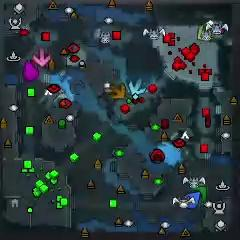p1: (184, 191, 201, 209)
p3: (22, 60, 39, 80)
x1: (33, 48, 51, 66)
x2: (197, 25, 213, 41)
x3: (129, 78, 146, 96)
x4: (190, 186, 207, 206)
x5: (109, 83, 126, 99)
